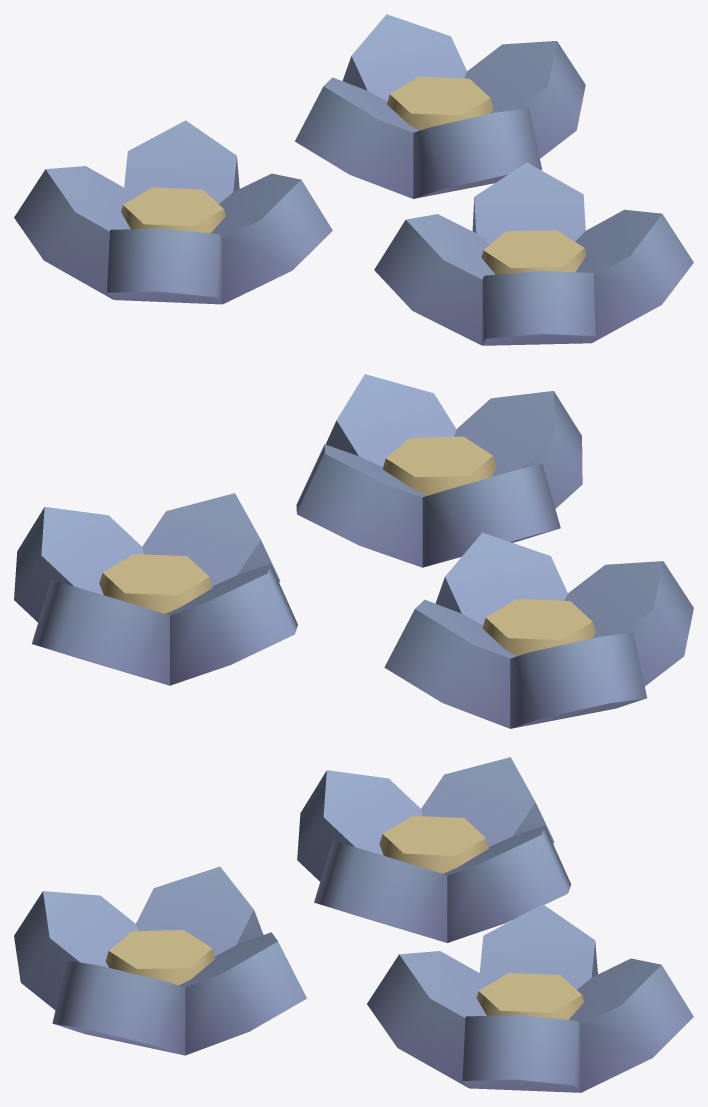
File: flowers_low.gltf
3 views of the same model, one above another, from view 1: azimuth 30°, elevation 25°; view 2: azimuth 150°, elevation 25°; view 3: azimuth 270°, elevation 25° (orthographic). The views are drawn at different scales.
Visible parts, largest first — view 1: flowers_low; view 2: flowers_low; view 3: flowers_low.
Part boxes in pixels (x1,y1,x2,y2): flowers_low: (14, 14, 693, 345); flowers_low: (14, 374, 693, 728); flowers_low: (14, 757, 693, 1092).
Bounding box in the file's own units: 0.7766 × 0.137 × 0.7857.
